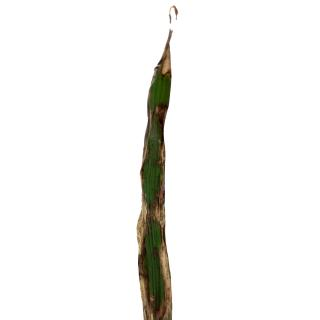Hawar-Daun: (136, 6, 175, 320)
